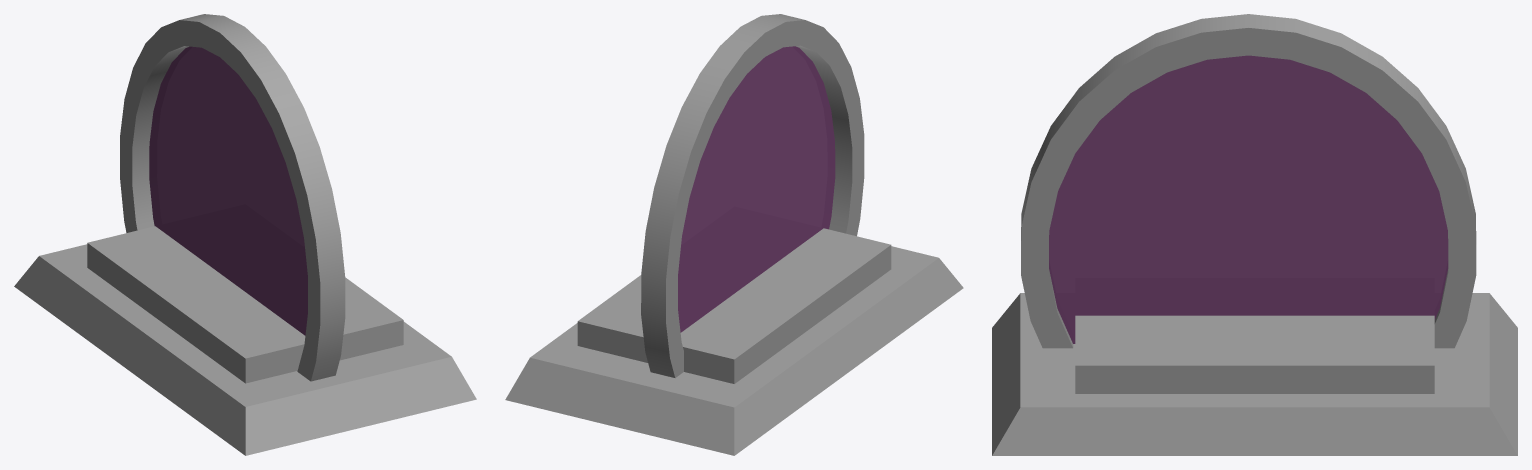
File: BasicTimeGatePrototype.fbx
3 renders of one model, left to right at view 1: azimuth 30°, elevation 25°; view 2: azimuth 150°, elevation 25°; view 3: azimuth 270°, elevation 25°, orthographic. The views are drawn at different scales.
Parts seen in each view (by area): view 1: pCube3, pCylinder1, pCube2; view 2: pCube3, pCylinder1, pCube2; view 3: pCylinder1, pCube3, pCube2.
Part boxes in pixels (x1,y1,x2,y2): pCube3: [14, 226, 476, 455]; pCylinder1: [149, 46, 307, 335]; pCube2: [120, 14, 345, 381]; pCube3: [505, 228, 963, 455]; pCylinder1: [678, 46, 835, 332]; pCube2: [641, 14, 864, 377]; pCylinder1: [1049, 55, 1448, 343]; pCube3: [992, 293, 1517, 455]; pCube2: [1021, 14, 1476, 348].
Size of the model in its own units: 30.5 by 40.17 by 52.85.
